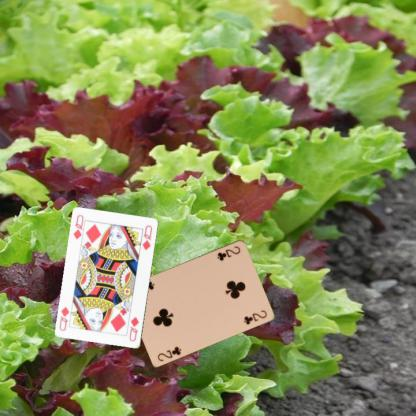2c: (214, 243, 242, 262), (155, 344, 182, 362)
Qd: (71, 213, 87, 243), (127, 314, 140, 343)
